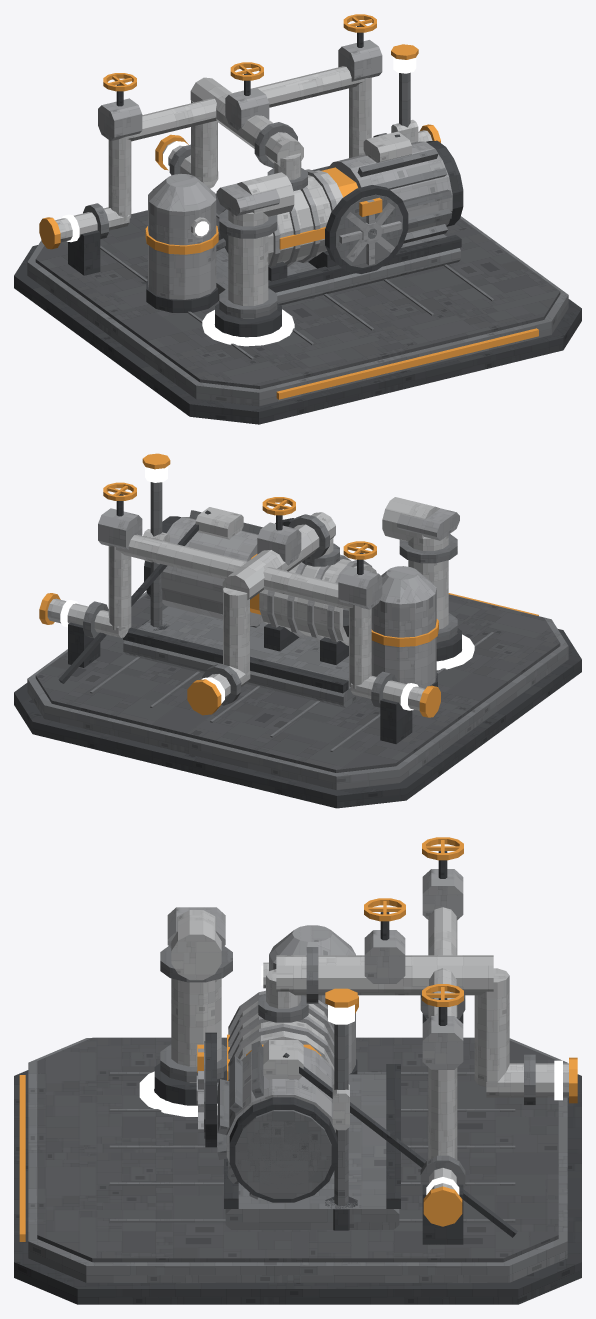
The model's file is pump_lod1.glb.
3 views of the same model, one above another, from view 1: azimuth 30°, elevation 25°; view 2: azimuth 150°, elevation 25°; view 3: azimuth 270°, elevation 25° (orthographic). The views are drawn at different scales.
Parts seen in each view (by area): view 1: pump_base_body.001, pump_base_trim.001, pump_wheel_body.001, pump_base_glow.001; view 2: pump_base_body.001, pump_base_trim.001, pump_base_glow.001; view 3: pump_base_body.001, pump_base_trim.001, pump_base_glow.001, pump_wheel_body.001.
Part boxes in pixels (box(x1,y1,x2,y2)): pump_base_body.001: box(14, 25, 581, 424); pump_base_trim.001: box(39, 14, 538, 399); pump_wheel_body.001: box(325, 185, 408, 273); pump_base_glow.001: box(61, 57, 418, 346); pump_base_body.001: box(14, 482, 581, 808); pump_base_trim.001: box(39, 453, 538, 717); pump_base_glow.001: box(60, 466, 474, 710); pump_base_body.001: box(14, 851, 581, 1304); pump_base_trim.001: box(19, 837, 577, 1241); pump_base_glow.001: box(139, 965, 562, 1194); pump_wheel_body.001: box(196, 1032, 216, 1147).
Size of the model in its own units: 1.96 by 1.02 by 1.96.
Materials: 3 (1 with a texture image).
